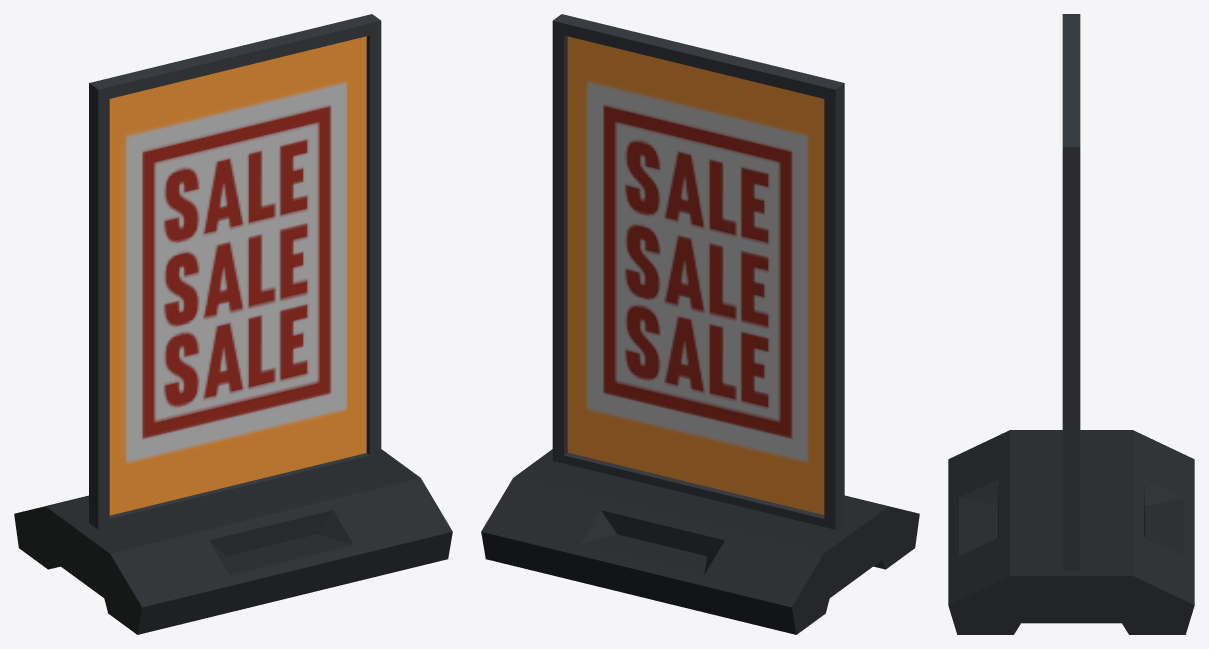
The model's file is SM_Sign_Base_04.obj.
The picture shows the model from 3 angles, left to right: view 1: azimuth 30°, elevation 25°; view 2: azimuth 150°, elevation 25°; view 3: azimuth 270°, elevation 25°; orthographic projection. The views are drawn at different scales.
Visible parts, largest first — view 1: SM_Sign_Base_04_0; view 2: SM_Sign_Base_04_0; view 3: SM_Sign_Base_04_0.
Part boxes in pixels (x1,y1,x2,y2): SM_Sign_Base_04_0: [14, 14, 452, 634]; SM_Sign_Base_04_0: [481, 14, 919, 634]; SM_Sign_Base_04_0: [948, 14, 1194, 634].
Bounding box in the file's own units: 0.7104 × 1.1 × 0.5073.
1 material, 1 textured.
